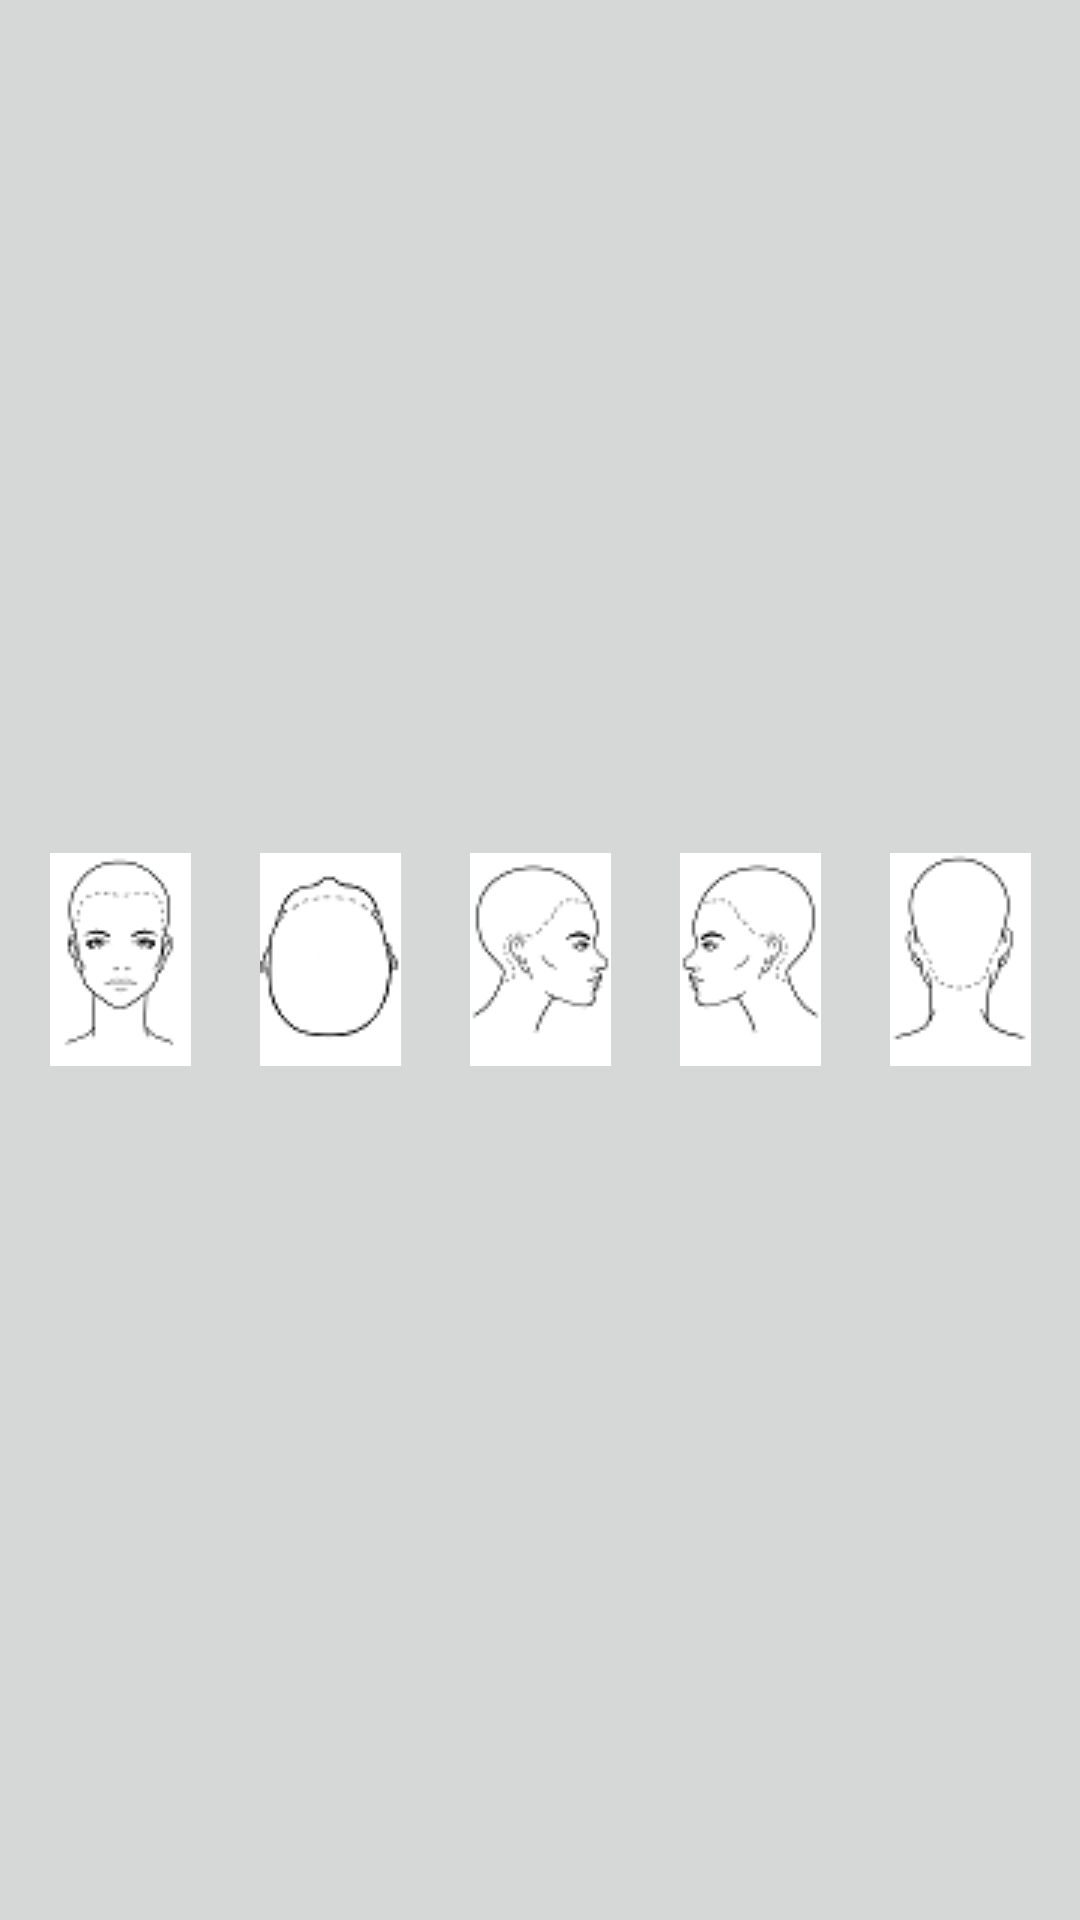

Screen size 1080*1920. Icon name, then its center in pixels as point (x, y):
face: point (120, 959)
from above: point (330, 959)
left side: point (750, 959)
nape: point (960, 959)
right side: point (540, 959)
